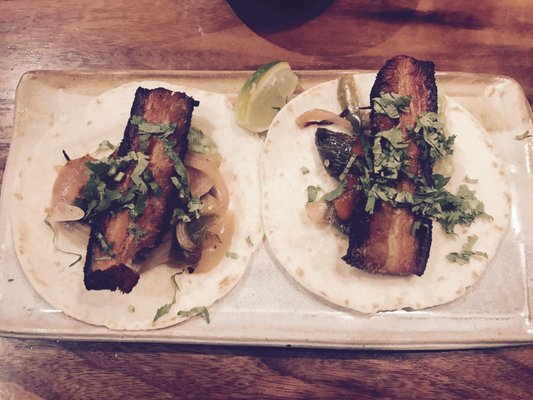curry: (0, 1, 533, 400)
sandwich: (258, 52, 511, 316)
